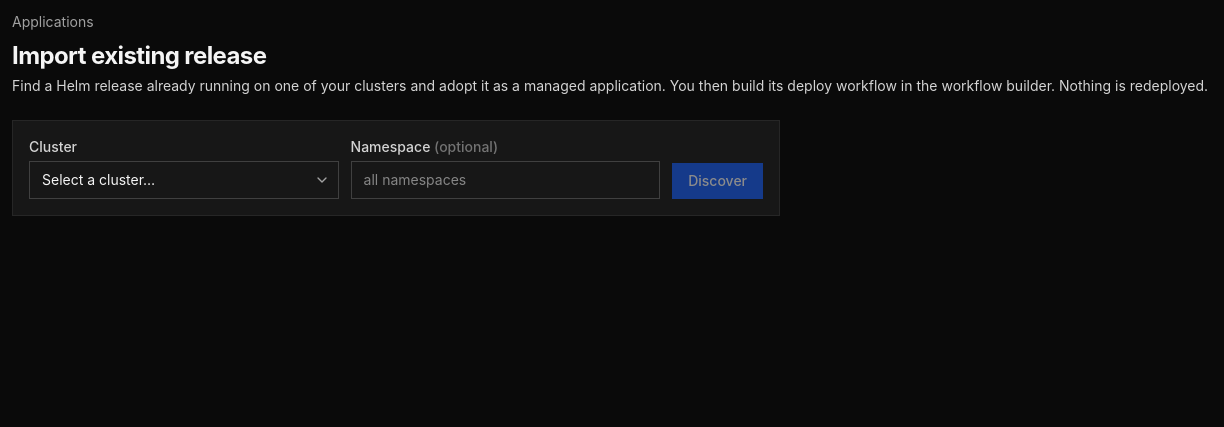
Test: ImportApplication › shows the empty state when no releases are found
Select "prod" in the dropdown. click: (184, 180)
box: [29,161,339,199]
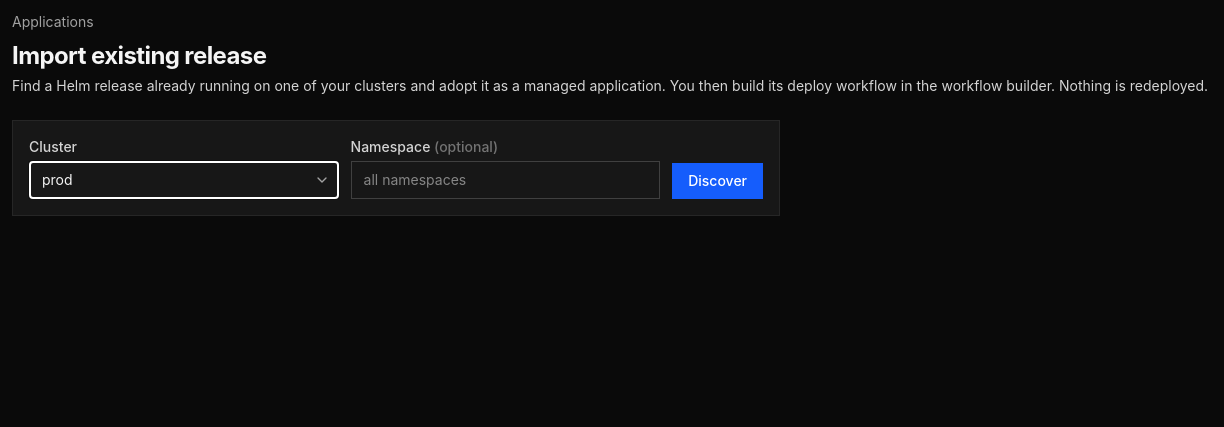
Click the button "Discover". click: (718, 181)
box: [672,163,763,199]
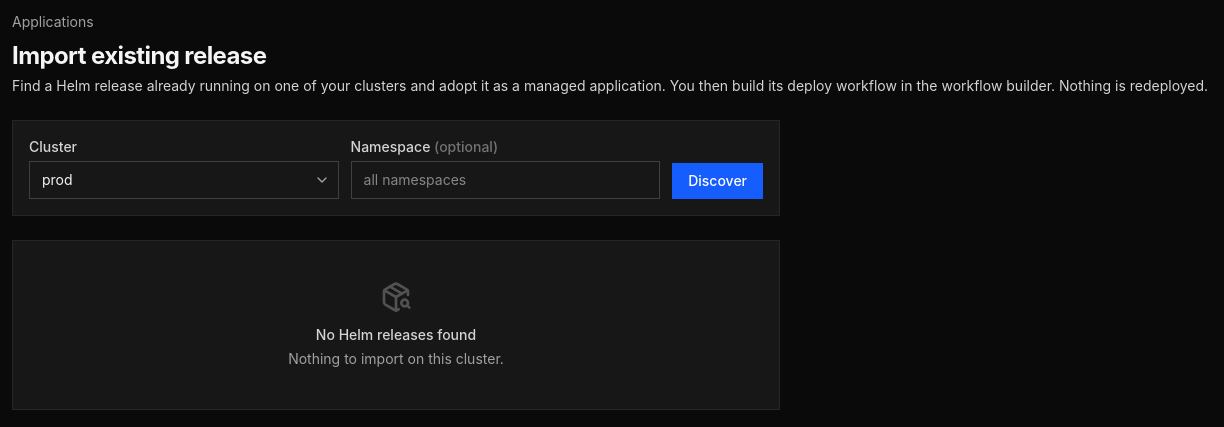
Expected: the text "No Helm releases found" is shown, [316,326,476,343]
